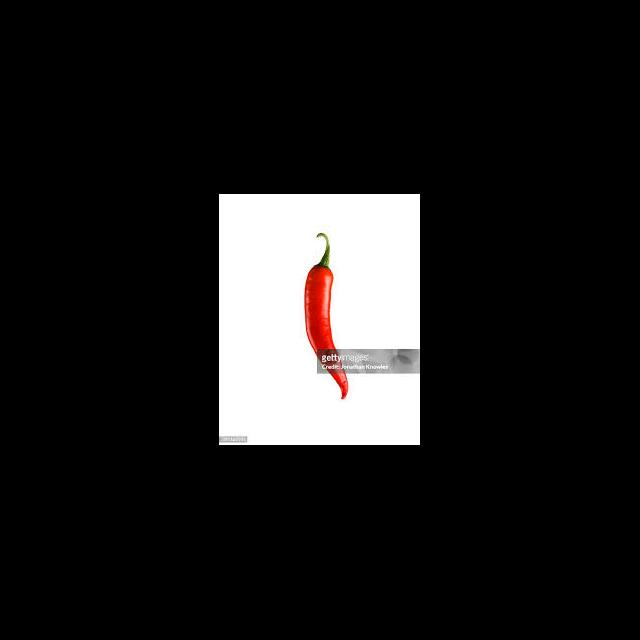chili_pepper: (304, 234, 349, 400)
